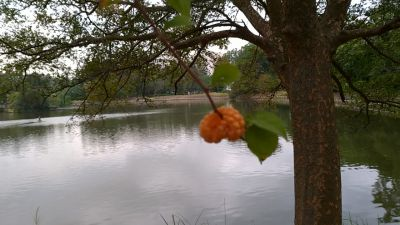eggs: (199, 105, 245, 145)
